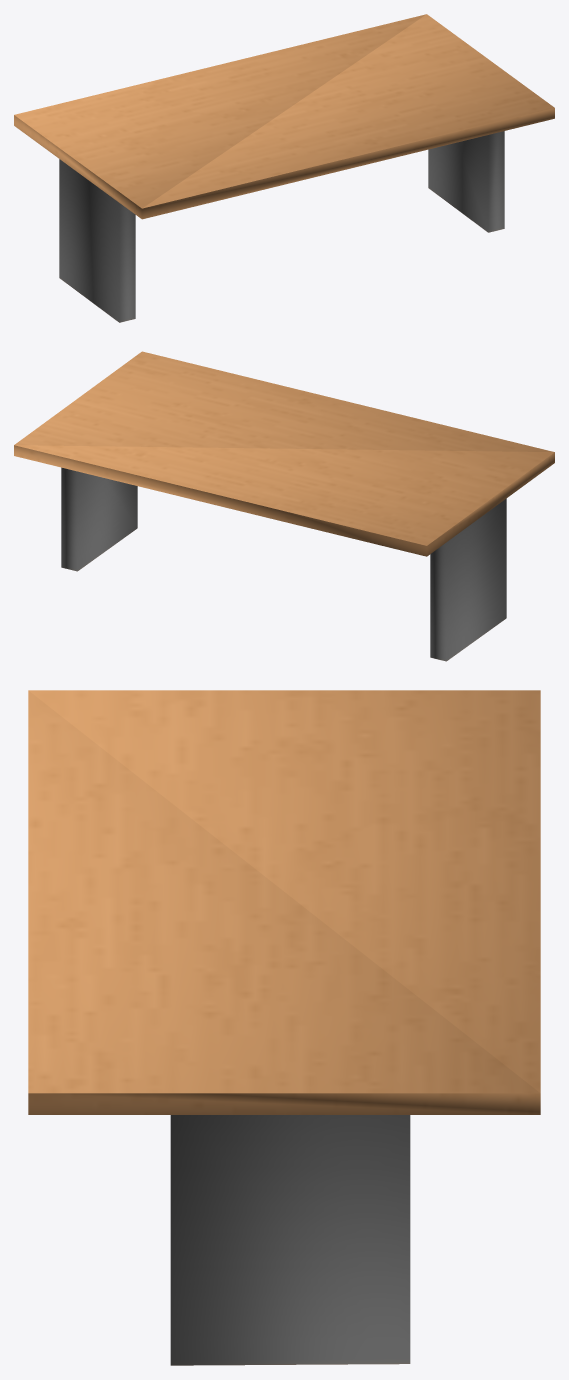
File: table.fbx
3 renders of one model, top to bottom at view 1: azimuth 30°, elevation 25°; view 2: azimuth 150°, elevation 25°; view 3: azimuth 270°, elevation 25°, orthographic. The views are drawn at different scales.
Visible parts, largest first — view 1: conferencetable; view 2: conferencetable; view 3: conferencetable.
Boxes of the visible parts, <box> form: conferencetable: <box>14,14,554,322</box>; conferencetable: <box>14,351,554,661</box>; conferencetable: <box>28,690,540,1365</box>.
Size of the model in its own units: 214 by 71.05 by 115.
1 material, 1 textured.
